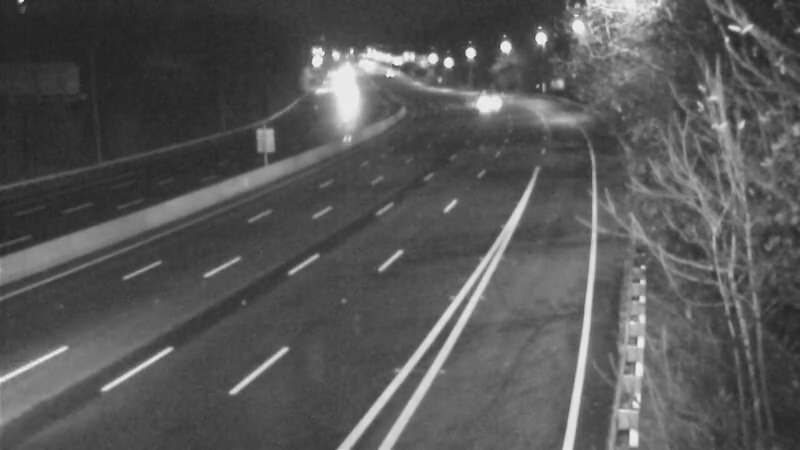vehicle: (455, 76, 505, 126), (322, 67, 372, 117)
